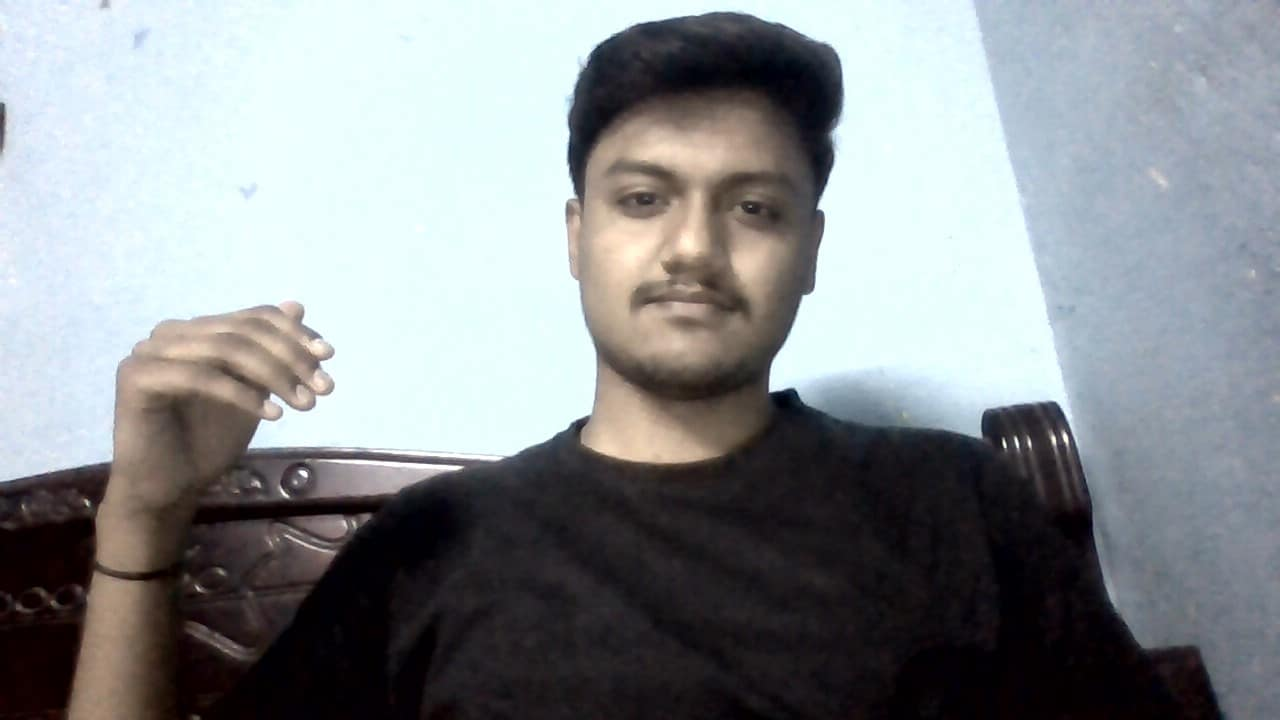hand: (105, 299, 341, 513)
